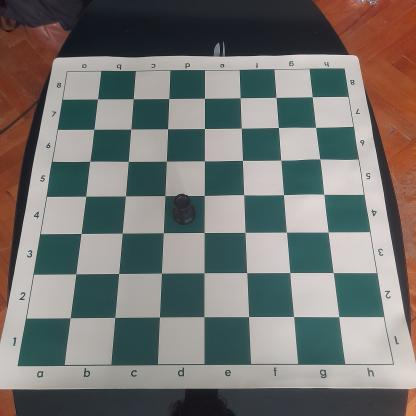black-rook: (170, 193, 199, 226)
